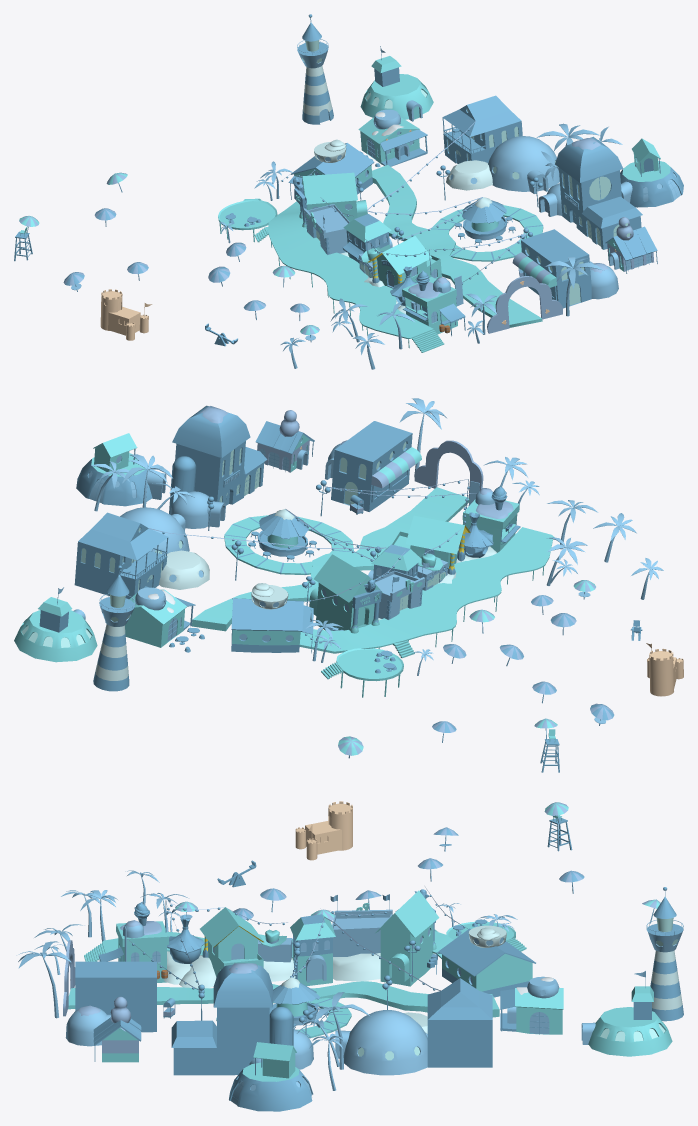
File: Neighborhood_BowlCutBeach_Locked_03.fbx
The picture shows the model from 3 angles, top to bottom: view 1: azimuth 30°, elevation 25°; view 2: azimuth 150°, elevation 25°; view 3: azimuth 270°, elevation 25°; orthographic projection. The views are drawn at different scales.
Visible parts, largest first — view 1: Bowlcut; view 2: Bowlcut; view 3: Bowlcut.
Part boxes in pixels (x1,y1,x2,y2): Bowlcut: (14,14,683,369); Bowlcut: (14,398,683,772); Bowlcut: (16,801,683,1111).
Bounding box in the file's own units: 5657 × 1325 × 5099.
